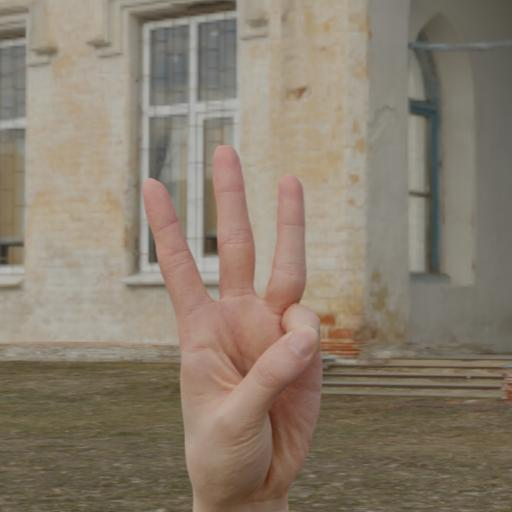W: (132, 134, 337, 512)
